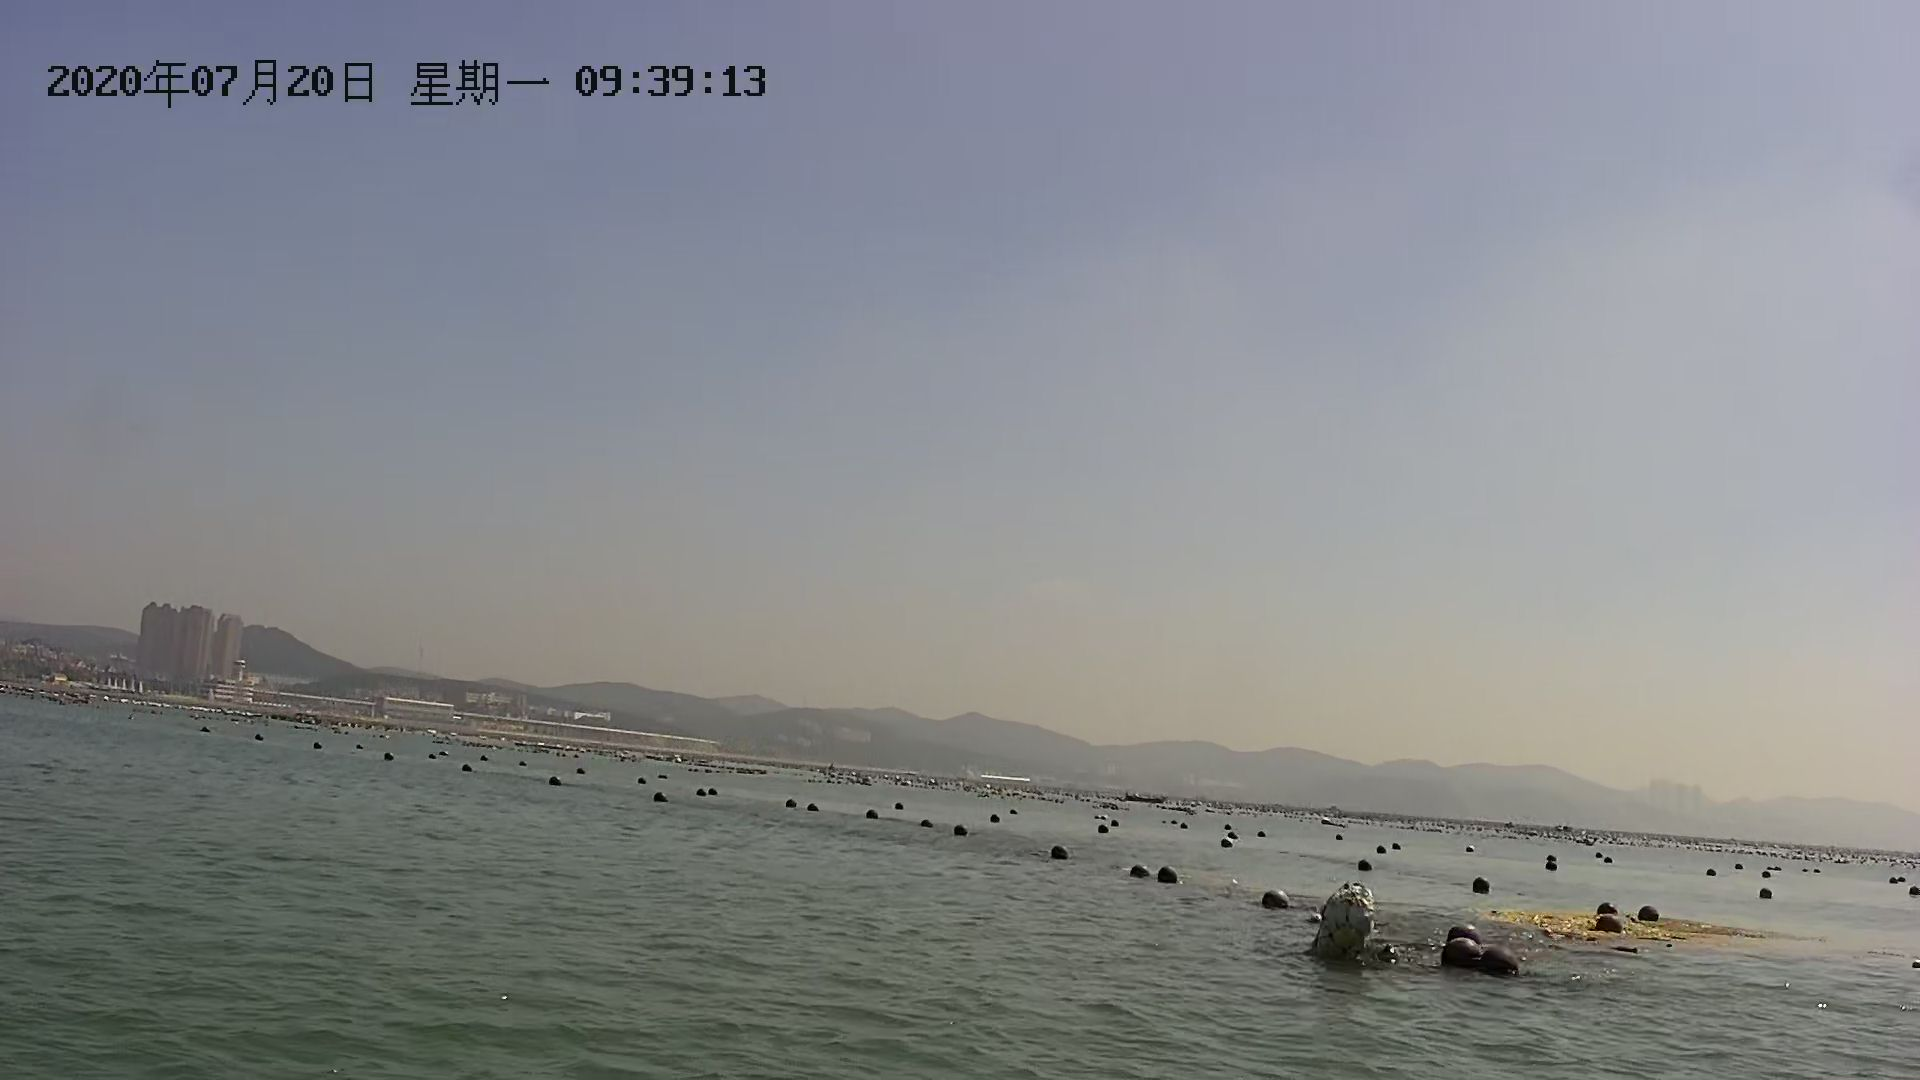ball: (1444, 924, 1520, 975), (1592, 902, 1625, 940), (1349, 853, 1378, 877), (1125, 861, 1153, 882), (690, 779, 719, 796), (1265, 891, 1290, 911), (1156, 865, 1182, 884), (1221, 837, 1247, 853), (1472, 877, 1495, 894), (1639, 905, 1663, 920), (1050, 847, 1073, 858), (1755, 887, 1778, 898), (953, 825, 969, 840), (650, 791, 671, 800), (549, 775, 563, 789), (1705, 865, 1720, 877), (382, 754, 400, 764), (1333, 831, 1346, 843), (196, 725, 212, 735), (311, 741, 328, 749), (463, 764, 473, 774), (808, 802, 819, 812), (253, 732, 264, 741), (866, 810, 878, 816), (920, 818, 928, 825)
platform: (1474, 903, 1801, 953)
rock: (1307, 882, 1378, 965)
